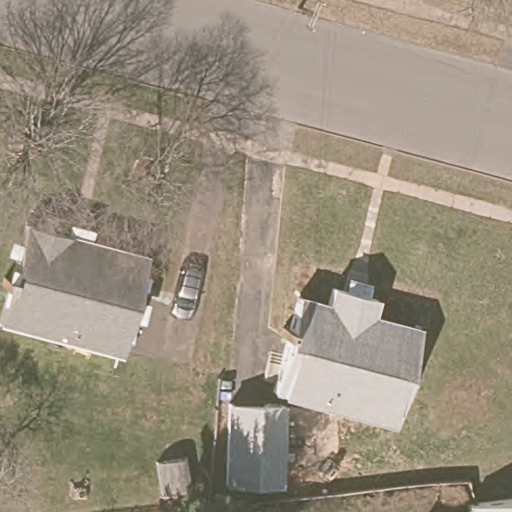DT: (295, 1, 329, 33)
